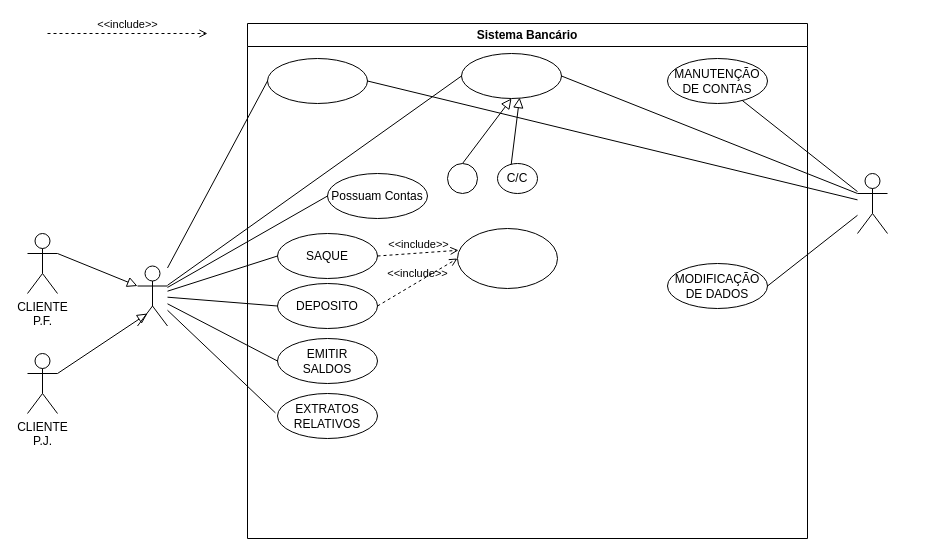
This 932x556 diagram has some shape labels left out. Each missing label, with the box of its shape:
Abrir Contas: (460, 52, 562, 98)
C/P: (446, 162, 478, 194)
CLIENTE: (136, 265, 168, 326)
Fechar Contas: (266, 58, 368, 104)
FUNCIONARIO: (856, 172, 888, 234)
REGISTRAR MOVEMIENTOS: (456, 228, 558, 288)
